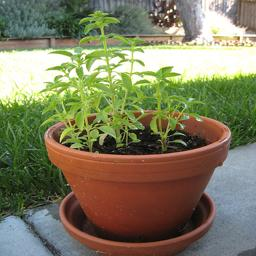pottedplant: (78, 128, 256, 256)
